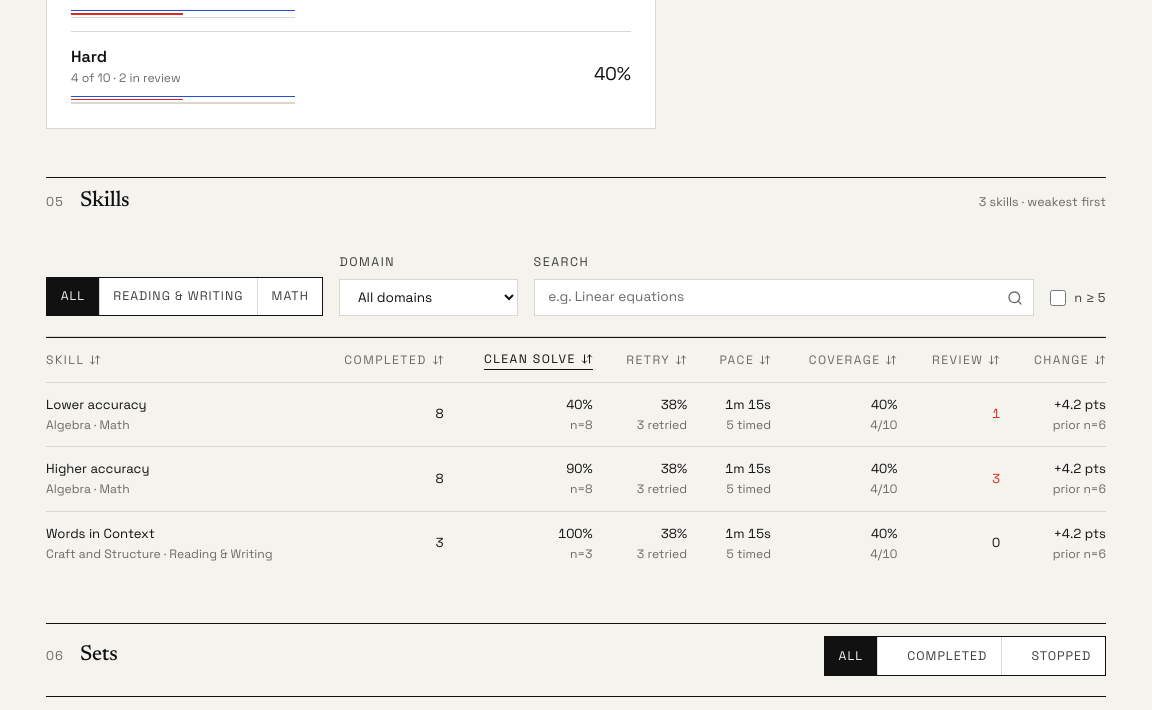
Scenario: ProgressPage › lists skills weakest first and re-sorts on a column
(page scrolled)
Expected: the heading "Skills" is shown, x1=80 y1=190 x2=129 y2=213
Expected: the text "3 skills · weakest first" is shown, x1=979 y1=192 x2=1106 y2=211
What coordinates should you click on to do the following:
click the button with aria-label "Sort by Clean solve"
I would click on:
 (538, 360)
Its box is x1=484 y1=350 x2=592 y2=370.
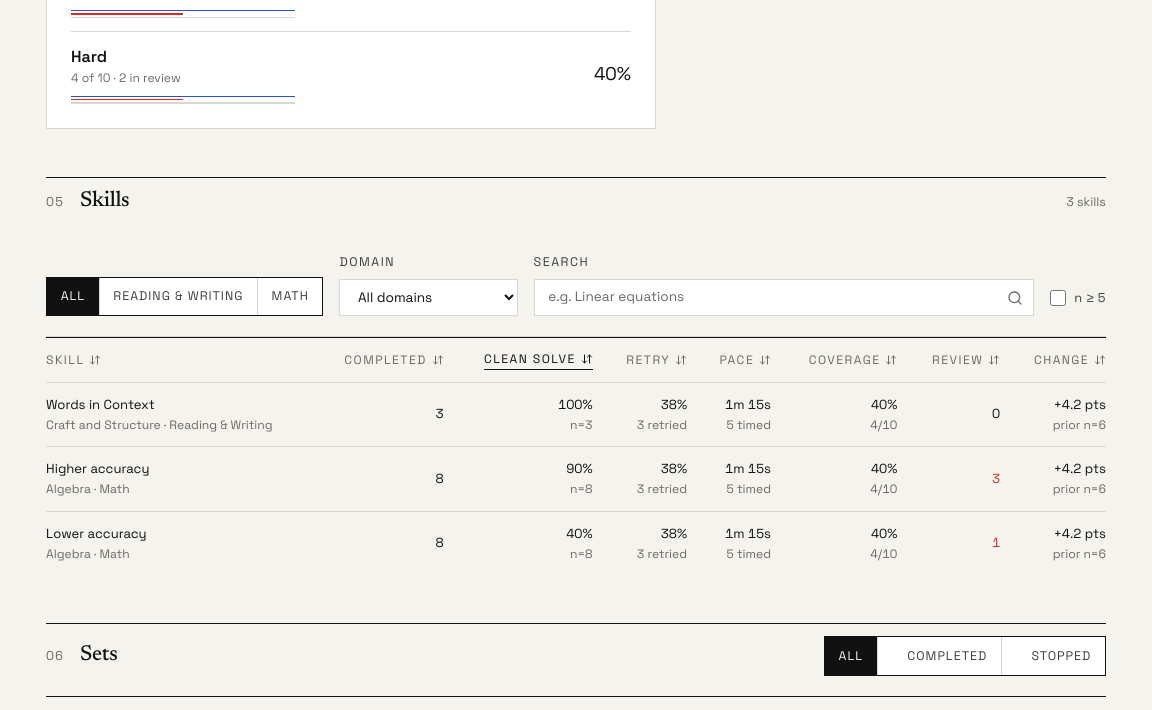
Expected: the row that starts with "Words in Context" is shown, x1=46 y1=396 x2=155 y2=412
Now the text "3 skills · weakest first" is gone
